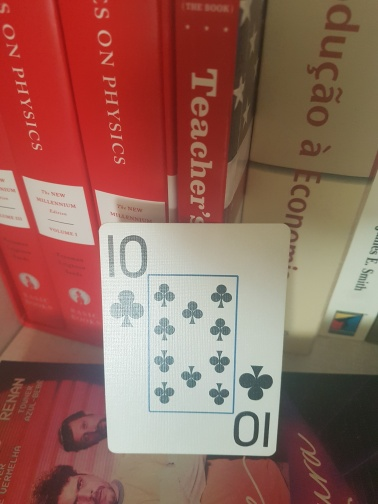ten: (99, 223, 290, 459)
